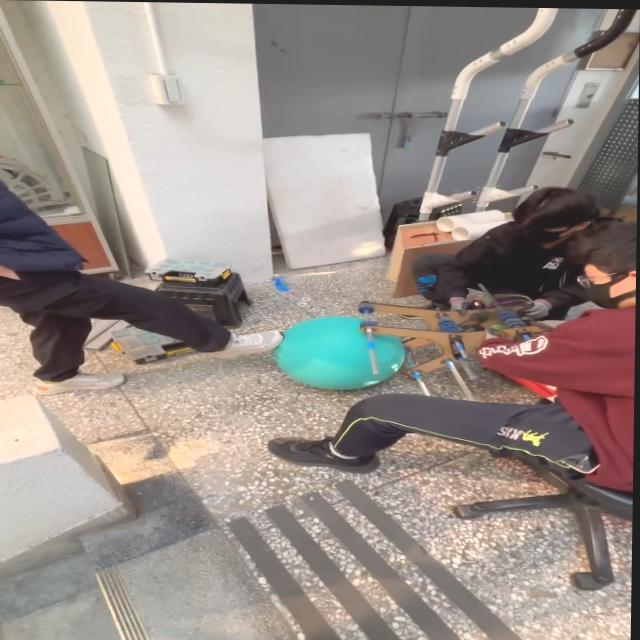ALGAE: (271, 314, 408, 392)
